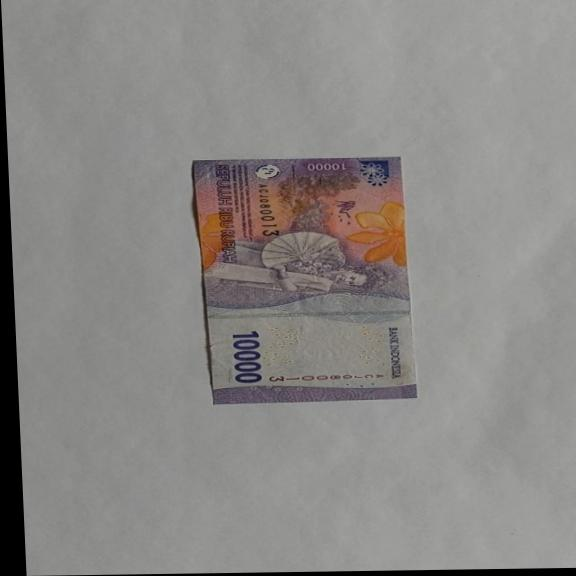Kertas: (190, 156, 418, 405), (229, 330, 265, 384)
